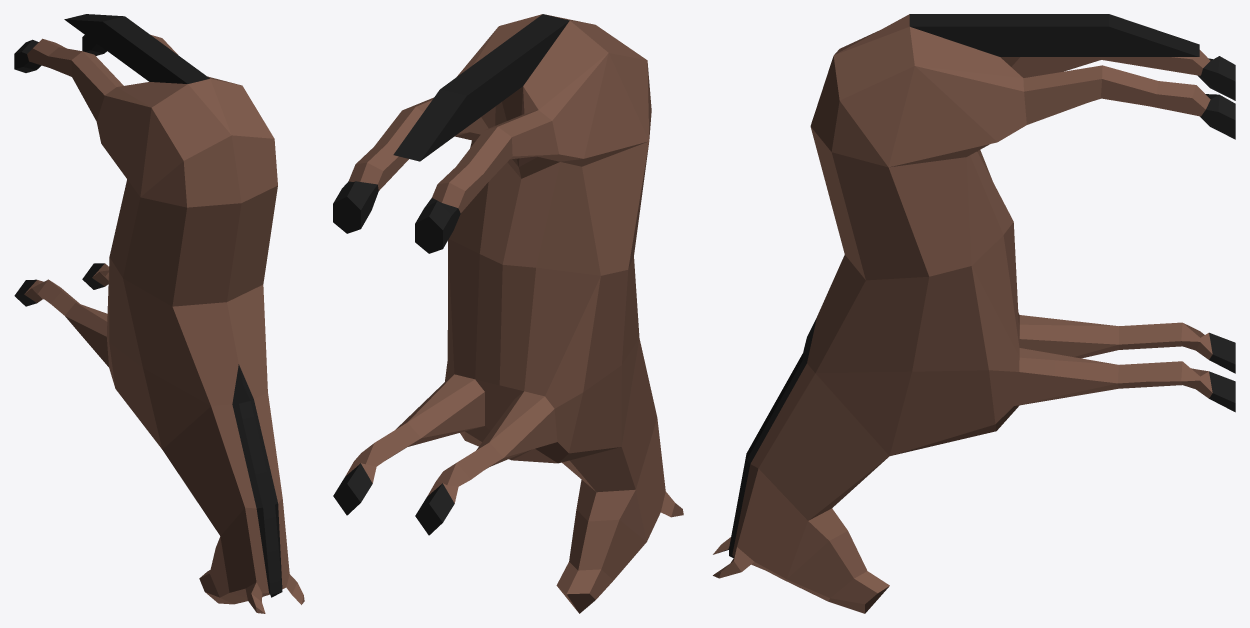
Rendered from animals-horse-128.glb.
3 renders of one model, left to right at view 1: azimuth 30°, elevation 25°; view 2: azimuth 150°, elevation 25°; view 3: azimuth 270°, elevation 25°, orthographic. The views are drawn at different scales.
Parts seen in each view (by area): view 1: pCube75; view 2: pCube75; view 3: pCube75.
Boxes of the visible parts, x1,y1,x2,y2 form: pCube75: (14, 14, 304, 613); pCube75: (333, 14, 683, 613); pCube75: (713, 14, 1235, 613).
Bounding box in the file's own units: 197 × 704 × 563.
